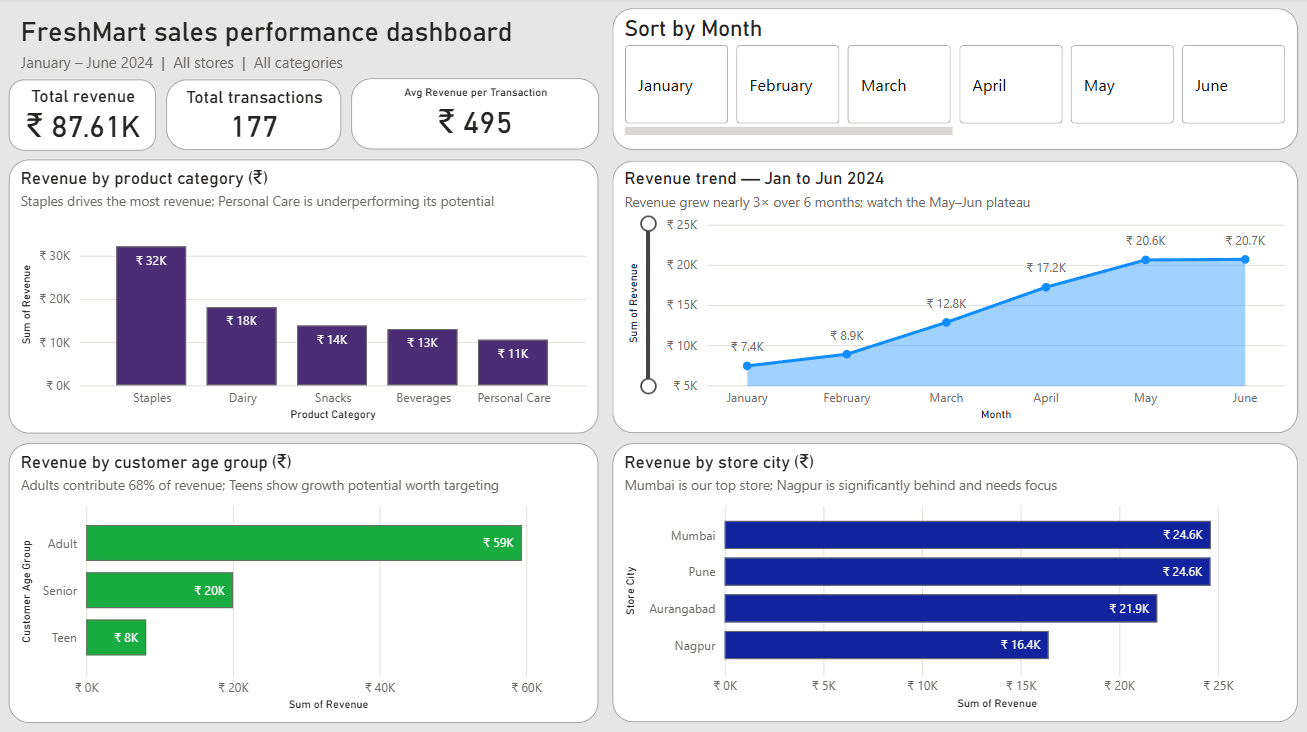

The page's visual inventory and layout, read from the dashboard file:
{"tool":"powerbi","page":{"name":"Page 1","canvas":[1280,720],"ordinal":0},"visuals":[{"type":"barChart","title":"Revenue by store city (₹)","fields":{"Category":["freshmart_sales.Store_City"],"Y":["Sum(freshmart_sales.Revenue)"]},"box":[599.2,436.6,670.1,272.7],"z":0},{"type":"columnChart","title":"Revenue by product category (₹)","fields":{"Category":["freshmart_sales.Product_Category"],"Y":["Sum(freshmart_sales.Revenue)"]},"box":[8.6,159,577.2,267.8],"z":1000},{"type":"barChart","title":"Revenue by customer age group (₹)","fields":{"Category":["freshmart_sales.Customer_Age_Group"],"Y":["Sum(freshmart_sales.Revenue)"]},"box":[8.6,436.6,577.2,273.9],"z":2000},{"type":"card","title":"Total transactions","fields":{"Values":["CountNonNull(freshmart_sales.Transaction_ID)"]},"box":[162.6,80.7,171.2,68.5],"z":3000},{"type":"textbox","title":"FreshMart sales performance dashboard","box":[8.6,11,577.2,68.5],"z":4000},{"type":"card","title":"Total revenue","fields":{"Values":["Sum(freshmart_sales.Revenue)"]},"box":[8.6,80.7,144.3,69.7],"z":5000},{"type":"lineChart","title":"Revenue trend — Jan to Jun 2024","fields":{"Category":["freshmart_sales.Date.Variation.Date Hierarchy.Month"],"Y":["Sum(freshmart_sales.Revenue)"]},"box":[599.2,160.2,670.1,266.6],"z":6000},{"type":"card","title":"Avg Revenue per Transaction","fields":{"Values":["freshmart_sales.Avg Revenue per Transaction"]},"box":[343.6,79.5,242.1,69.7],"z":7000},{"type":"advancedSlicerVisual","title":"Sort by Month","fields":{"Values":["freshmart_sales.Date.Variation.Date Hierarchy.Month"]},"box":[599.2,11,670.1,138.2],"z":8000}]}

Visuals, with their boxes in screenshot pixels (x1, y1, x2, y2), scaled from the page's 1280x720 canvas onto the 1307x732 screenshot:
"Revenue by store city (₹)" barChart: box(612, 444, 1296, 721)
"Revenue by product category (₹)" columnChart: box(9, 162, 598, 434)
"Revenue by customer age group (₹)" barChart: box(9, 444, 598, 722)
"Total transactions" card: box(166, 82, 341, 152)
"FreshMart sales performance dashboard" textbox: box(9, 11, 598, 81)
"Total revenue" card: box(9, 82, 156, 153)
"Revenue trend — Jan to Jun 2024" lineChart: box(612, 163, 1296, 434)
"Avg Revenue per Transaction" card: box(351, 81, 598, 152)
"Sort by Month" advancedSlicerVisual: box(612, 11, 1296, 152)
